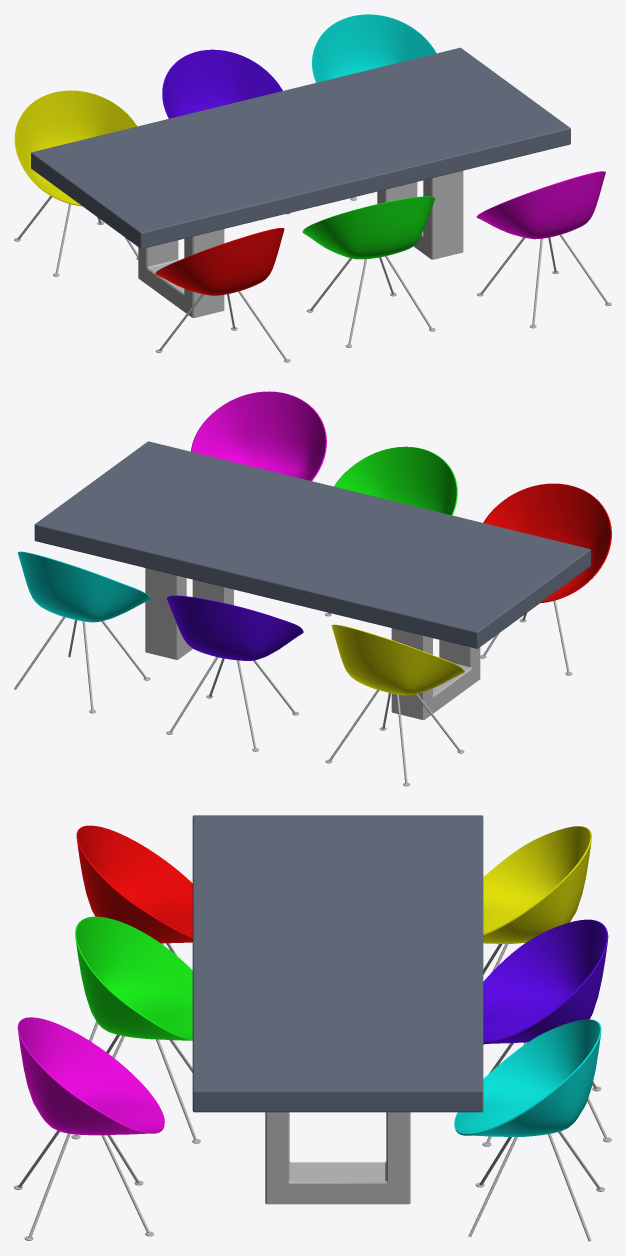
The model's file is meko 6.fbx.
The picture shows the model from 3 angles, top to bottom: view 1: azimuth 30°, elevation 25°; view 2: azimuth 150°, elevation 25°; view 3: azimuth 270°, elevation 25°; orthographic projection. The views are drawn at different scales.
Parts seen in each view (by area): view 1: pasted__pasted__dining_table_top, pasted__pasted__dining_chair_seat002, pasted__pasted__dining_chair_seat, pasted__pasted__dining_chair_seat001, pasted__pasted__dining_chair_seat004, pasted__pasted__dining_chair_seat003, pasted__pasted__dining_chair_seat005, pasted__pasted__dining_table_leg_001, pasted__pasted__dining_table_leg_002; view 2: pasted__pasted__dining_table_top, pasted__pasted__dining_chair_seat005, pasted__pasted__dining_chair_seat003, pasted__pasted__dining_chair_seat001, pasted__pasted__dining_chair_seat004, pasted__pasted__dining_chair_seat, pasted__pasted__dining_chair_seat002, pasted__pasted__dining_table_leg_001, pasted__pasted__dining_table_leg_002; view 3: pasted__pasted__dining_table_top, pasted__pasted__dining_chair_seat005, pasted__pasted__dining_chair_seat004, pasted__pasted__dining_chair_seat001, pasted__pasted__dining_chair_seat, pasted__pasted__dining_chair_seat002, pasted__pasted__dining_chair_seat003, pasted__pasted__dining_table_leg_001.
Boxes of the visible parts, x1,y1,x2,y2 form: pasted__pasted__dining_table_top: [31, 47, 570, 248]; pasted__pasted__dining_chair_seat002: [14, 90, 137, 206]; pasted__pasted__dining_chair_seat: [312, 14, 436, 82]; pasted__pasted__dining_chair_seat001: [162, 49, 282, 118]; pasted__pasted__dining_chair_seat004: [302, 196, 435, 259]; pasted__pasted__dining_chair_seat003: [155, 228, 284, 295]; pasted__pasted__dining_chair_seat005: [476, 171, 605, 239]; pasted__pasted__dining_table_leg_001: [377, 170, 463, 259]; pasted__pasted__dining_table_leg_002: [138, 229, 224, 317]; pasted__pasted__dining_table_top: [34, 441, 590, 648]; pasted__pasted__dining_chair_seat005: [190, 391, 326, 480]; pasted__pasted__dining_chair_seat003: [483, 483, 611, 602]; pasted__pasted__dining_chair_seat001: [166, 595, 303, 660]; pasted__pasted__dining_chair_seat004: [334, 446, 457, 515]; pasted__pasted__dining_chair_seat: [17, 551, 150, 622]; pasted__pasted__dining_chair_seat002: [331, 624, 464, 695]; pasted__pasted__dining_table_leg_001: [145, 568, 233, 659]; pasted__pasted__dining_table_leg_002: [391, 628, 480, 719]; pasted__pasted__dining_table_top: [192, 815, 483, 1112]; pasted__pasted__dining_chair_seat005: [17, 1017, 164, 1135]; pasted__pasted__dining_chair_seat004: [75, 916, 192, 1040]; pasted__pasted__dining_chair_seat001: [483, 919, 608, 1044]; pasted__pasted__dining_chair_seat: [454, 1019, 601, 1136]; pasted__pasted__dining_chair_seat002: [483, 826, 591, 943]; pasted__pasted__dining_chair_seat003: [76, 825, 192, 943]; pasted__pasted__dining_table_leg_001: [265, 1112, 410, 1204].
Size of the model in its own units: 27.25 by 8.44 by 24.94.
